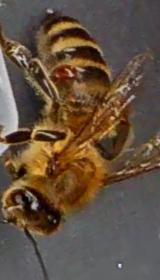varroa_mite: (43, 61, 81, 82)
